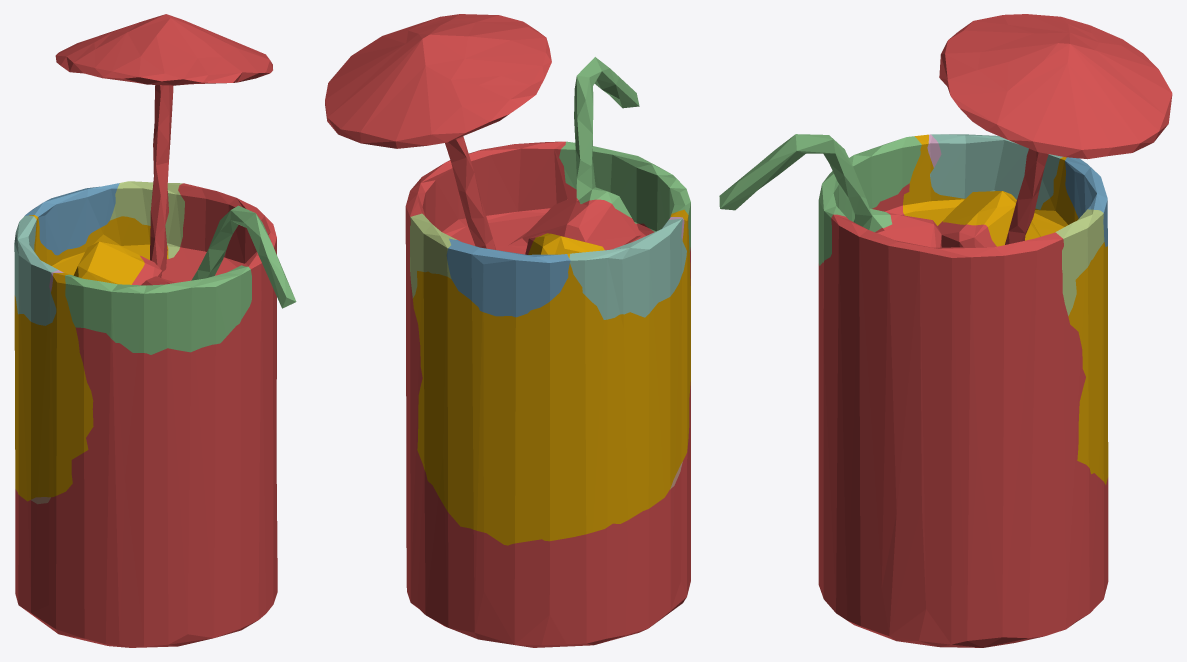
The model's file is mode_15_8pcs.glb.
3 views of the same model, side by side, from view 1: azimuth 30°, elevation 25°; view 2: azimuth 150°, elevation 25°; view 3: azimuth 270°, elevation 25° (orthographic). The views are drawn at different scales.
Visible parts, largest first — view 1: piece_1.obj, piece_0.obj, piece_3.obj, piece_2.obj, piece_4.obj, piece_5.obj; view 2: piece_1.obj, piece_0.obj, piece_3.obj, piece_4.obj, piece_2.obj, piece_5.obj; view 3: piece_1.obj, piece_0.obj, piece_3.obj, piece_4.obj, piece_5.obj, piece_2.obj.
Part boxes in pixels (bbox=[...]): piece_1.obj: bbox=[15, 14, 277, 647]; piece_0.obj: bbox=[14, 215, 168, 501]; piece_3.obj: bbox=[65, 205, 296, 354]; piece_2.obj: bbox=[25, 183, 119, 255]; piece_4.obj: bbox=[14, 215, 57, 325]; piece_5.obj: bbox=[110, 181, 184, 258]; piece_1.obj: bbox=[325, 14, 690, 647]; piece_0.obj: bbox=[413, 209, 690, 545]; piece_3.obj: bbox=[559, 57, 690, 252]; piece_4.obj: bbox=[569, 218, 686, 319]; piece_2.obj: bbox=[446, 238, 570, 317]; piece_5.obj: bbox=[410, 213, 456, 298]; piece_1.obj: bbox=[818, 14, 1172, 647]; piece_0.obj: bbox=[903, 134, 1108, 484]; piece_3.obj: bbox=[719, 134, 921, 265]; piece_4.obj: bbox=[930, 134, 1062, 209]; piece_5.obj: bbox=[1055, 209, 1104, 315]; piece_2.obj: bbox=[1065, 157, 1107, 246].
Bounding box in the file's own units: 0.5255 × 1 × 0.7037.
